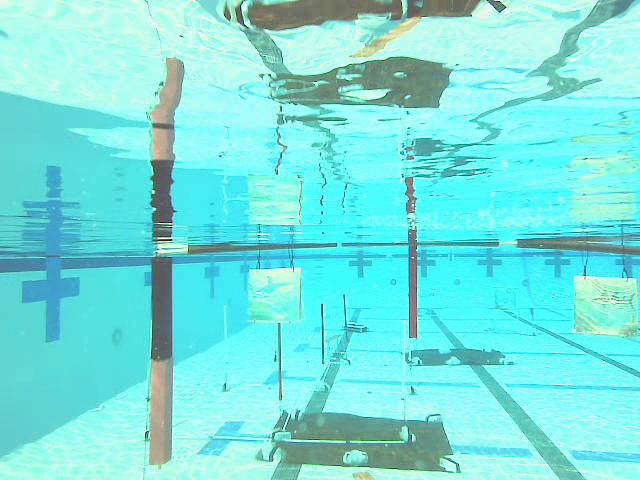black_poster: (272, 317, 289, 403), (339, 289, 354, 347), (319, 299, 328, 368)
left_gate_poster: (148, 251, 175, 469)
shark: (246, 265, 306, 328)
swordfish: (569, 273, 638, 338)
white_poster: (219, 298, 233, 391), (400, 317, 409, 407)
